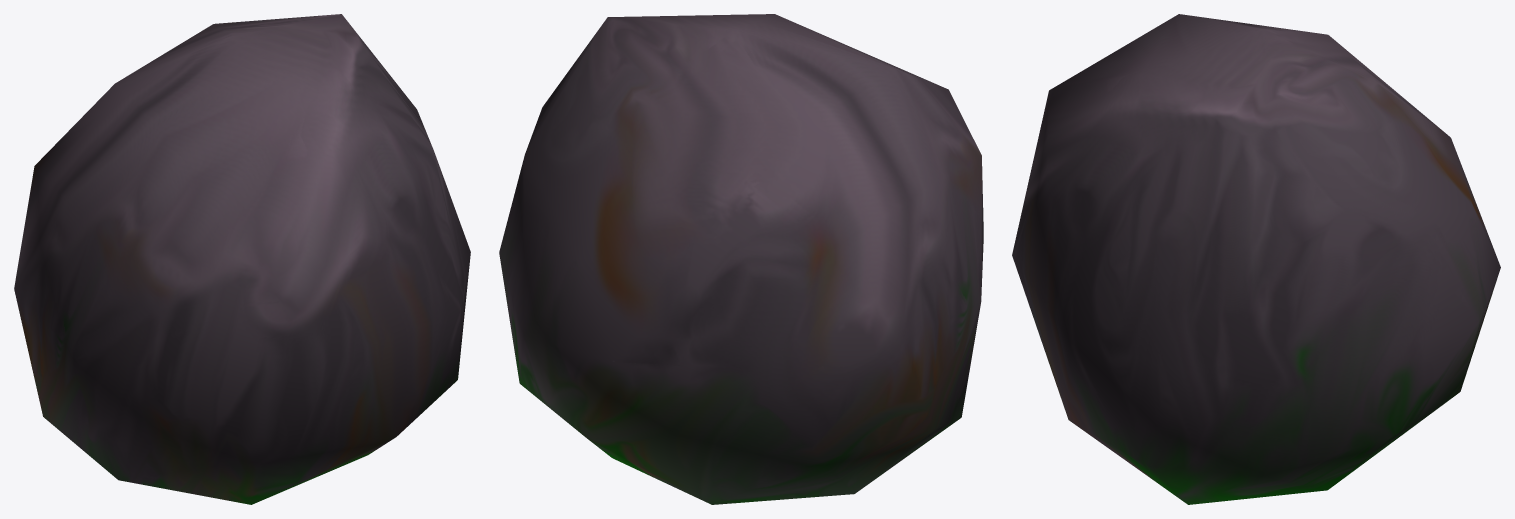
Rendered from Rock.fbx.
3 views of the same model, side by side, from view 1: azimuth 30°, elevation 25°; view 2: azimuth 150°, elevation 25°; view 3: azimuth 270°, elevation 25° (orthographic). The views are drawn at different scales.
Visible parts, largest first — view 1: Icosphere; view 2: Icosphere; view 3: Icosphere.
Part boxes in pixels (<box>): Icosphere: <box>14,14,470,504</box>; Icosphere: <box>499,14,983,504</box>; Icosphere: <box>1012,14,1500,504</box>.
Bounding box in the file's own units: 199 × 209 × 206.
Materials: 1 (1 with a texture image).
